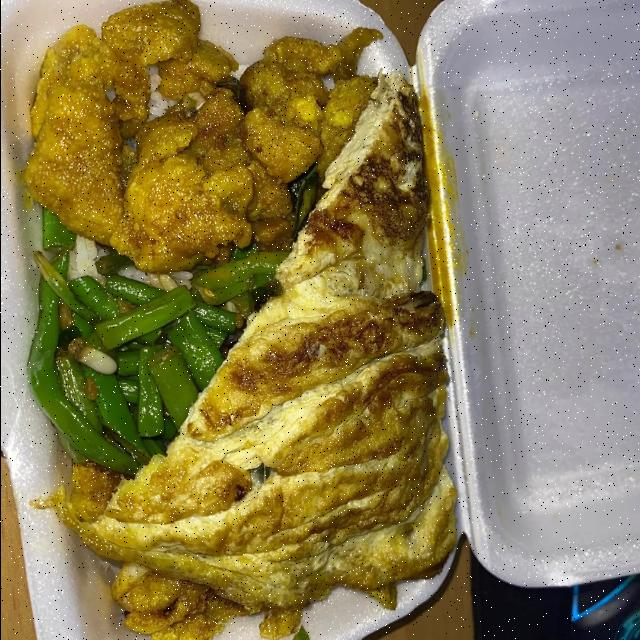Chicken: (24, 0, 381, 273)
Egg: (43, 72, 456, 639)
Green veg: (28, 213, 284, 475)
